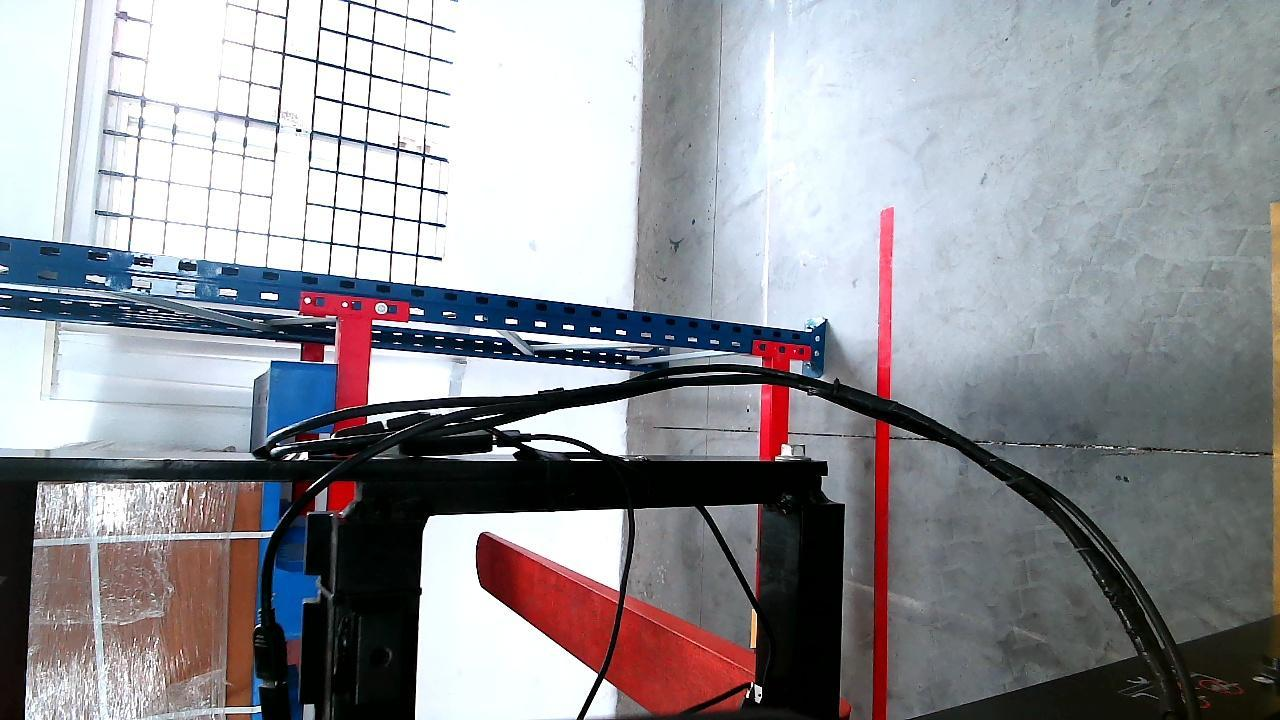red_line: (870, 207, 897, 719)
